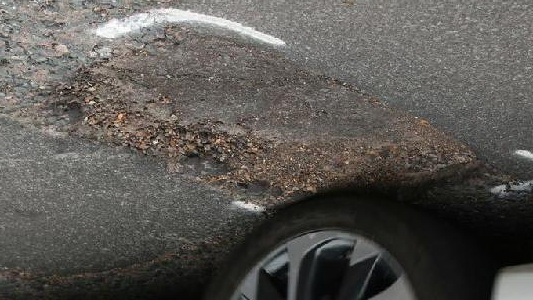pothole: (65, 54, 485, 207)
